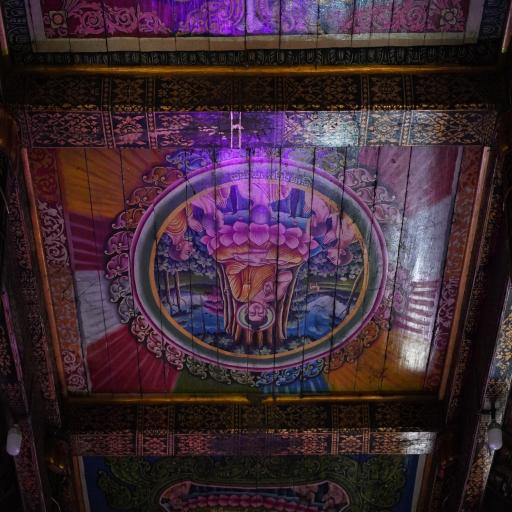la: (164, 145, 206, 174), (110, 202, 144, 234), (143, 162, 181, 188), (356, 181, 394, 207), (102, 230, 142, 254), (335, 162, 375, 186), (373, 198, 407, 226), (382, 284, 406, 323), (386, 266, 413, 300), (124, 183, 164, 205), (184, 346, 207, 383), (113, 294, 138, 328), (359, 314, 378, 357), (104, 274, 138, 298), (229, 362, 254, 393), (162, 340, 183, 376), (274, 363, 301, 391), (321, 345, 342, 381), (129, 310, 151, 344), (146, 322, 165, 361), (208, 355, 230, 388), (372, 302, 390, 342), (103, 254, 134, 277), (341, 334, 363, 366), (253, 362, 277, 391), (298, 354, 321, 384)
than: (212, 224, 304, 345), (234, 166, 288, 234), (193, 170, 232, 254), (327, 200, 362, 280), (166, 198, 202, 274), (301, 180, 328, 250)
